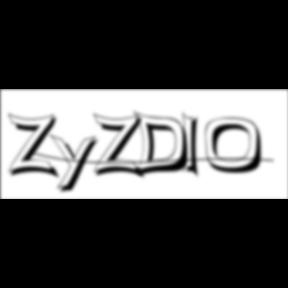D: (132, 110, 196, 180)
I: (182, 110, 206, 182)
O: (206, 117, 270, 176)
Z: (8, 112, 62, 181), (94, 112, 148, 181)
y: (50, 132, 104, 196)
